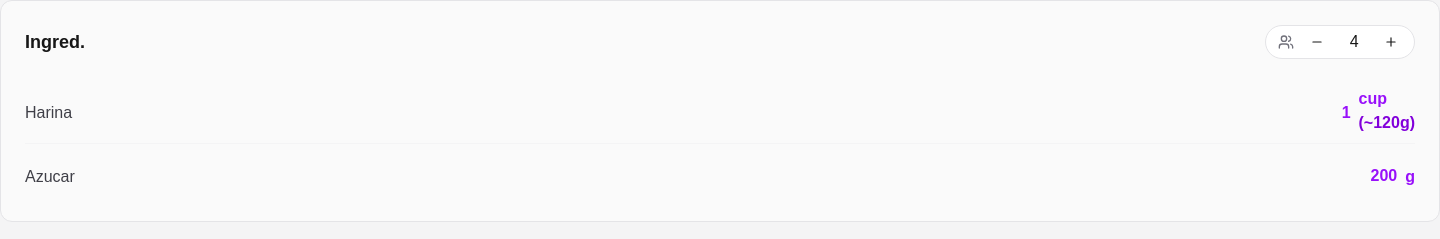
Scenario: PortionScaler › scales amounts when incrementing servings
Click the 2nd button. click: (1391, 42)
box: left=1380, top=31, right=1402, bottom=53
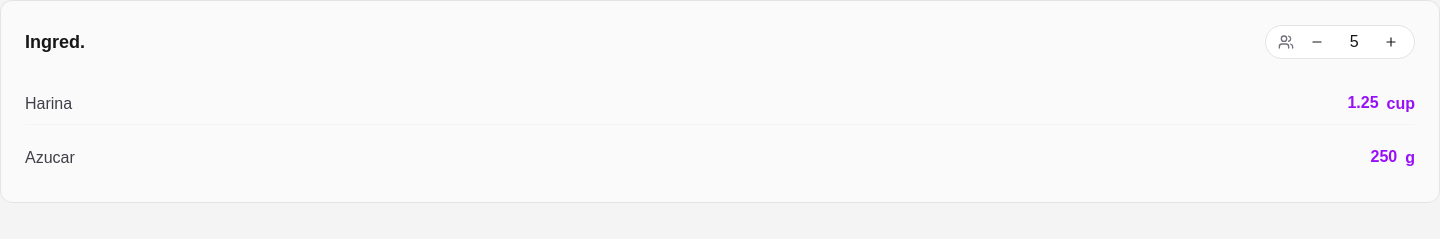
Expected: the text "5" is shown, left=1350, top=33, right=1359, bottom=50
Expected: the number field showing "1.25" next to "cup" is shown, left=1314, top=91, right=1378, bottom=116
Expected: the number field showing "250" in the row of "Azucar" is shown, left=1333, top=145, right=1397, bottom=170
